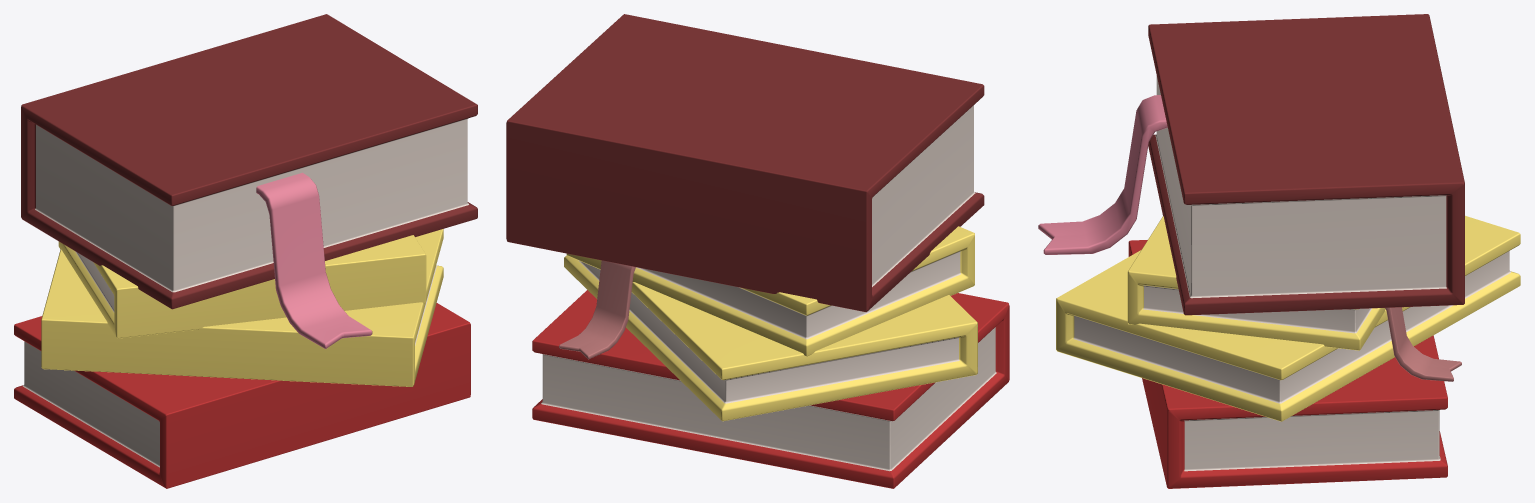
Rendered from Books_22.glb.
3 renders of one model, left to right at view 1: azimuth 30°, elevation 25°; view 2: azimuth 150°, elevation 25°; view 3: azimuth 270°, elevation 25°, orthographic. The views are drawn at different scales.
Parts seen in each view (by area): view 1: Books_22; view 2: Books_22; view 3: Books_22.
Boxes of the visible parts, x1=… form: Books_22: x1=14, y1=14, x2=477, y2=488; Books_22: x1=506, y1=14, x2=1009, y2=488; Books_22: x1=1038, y1=14, x2=1520, y2=488.
Bounding box in the file's own units: 0.3761 × 0.2581 × 0.3707.
1 material, 1 textured.
